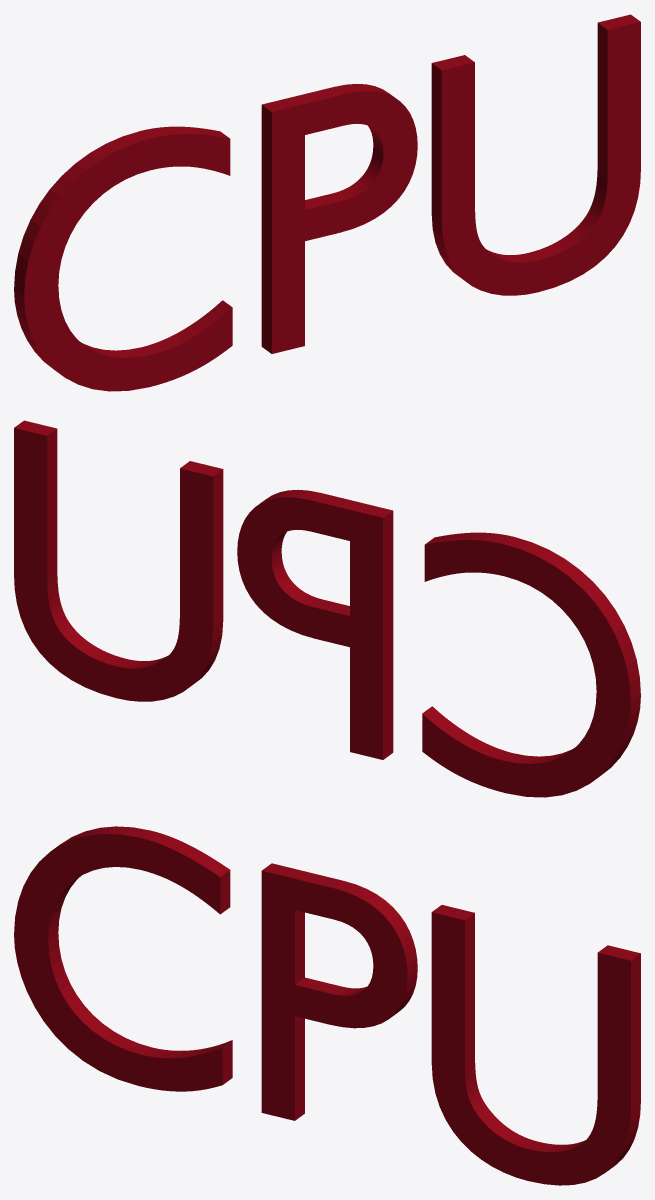
The model's file is cpu_text.fbx.
3 views of the same model, one above another, from view 1: azimuth 30°, elevation 25°; view 2: azimuth 150°, elevation 25°; view 3: azimuth 330°, elevation 25° (orthographic).
Parts seen in each view (by area): view 1: cpu_text; view 2: cpu_text; view 3: cpu_text.
Part boxes in pixels (left/top/right/bottom): cpu_text: left=14, top=14, right=640, bottom=391; cpu_text: left=14, top=420, right=640, bottom=797; cpu_text: left=14, top=826, right=640, bottom=1185.
Bounding box in the file's own units: 63.86 × 24.59 × 1.82.
